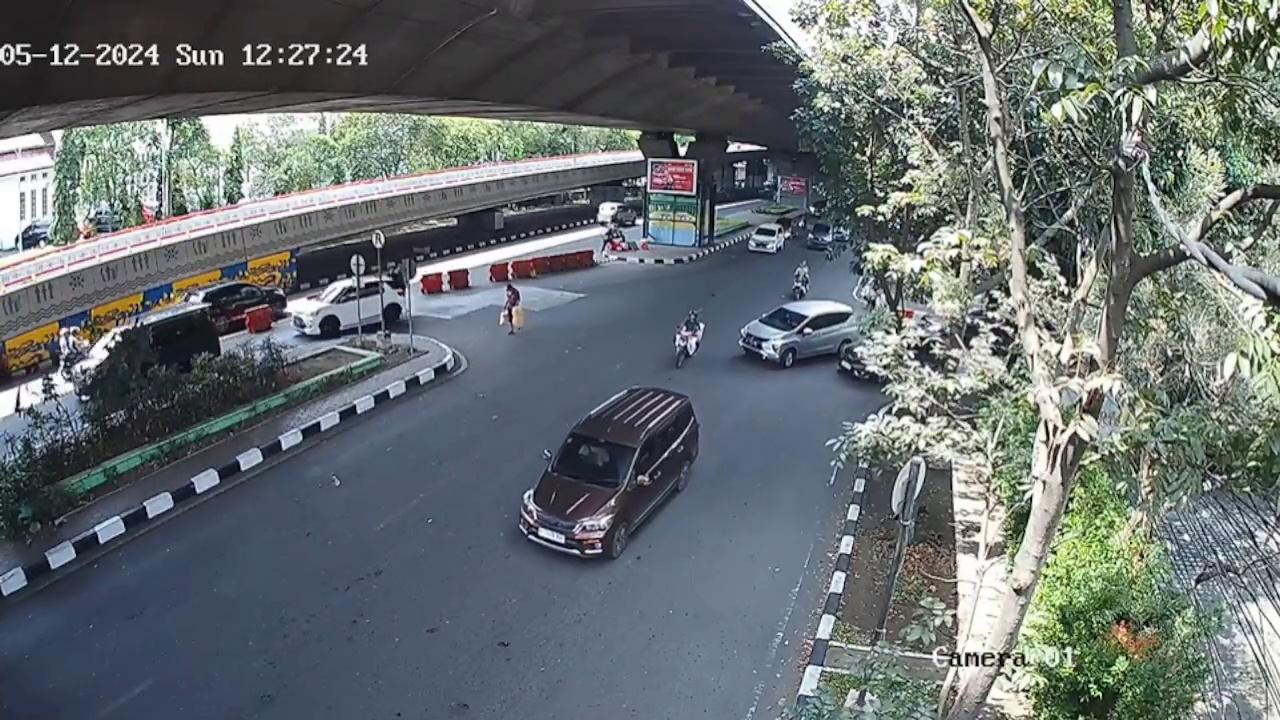pakai: (577, 442, 611, 471)
windshield: (554, 433, 635, 488)
